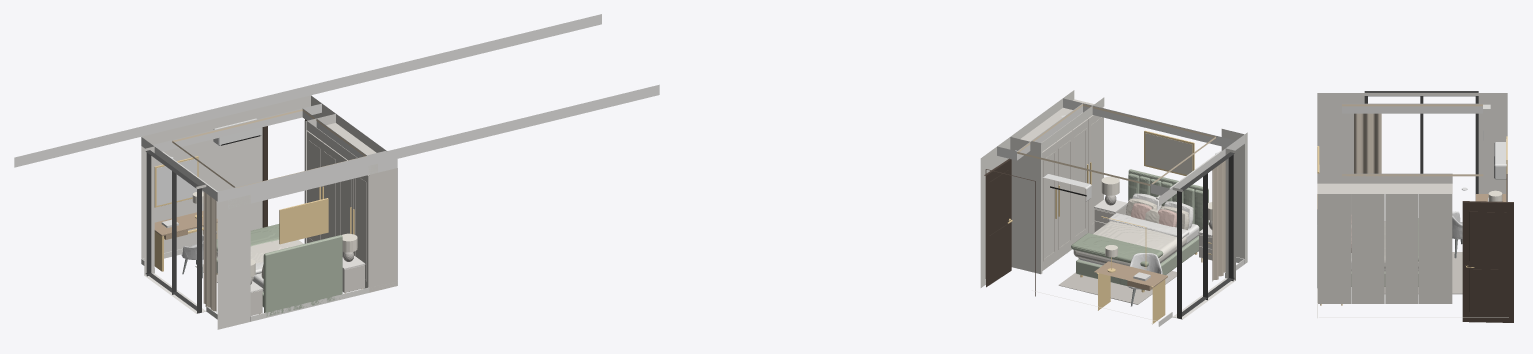
File: ROOM3.glb
The picture shows the model from 3 angles, left to right: view 1: azimuth 30°, elevation 25°; view 2: azimuth 150°, elevation 25°; view 3: azimuth 270°, elevation 25°; orthographic projection. The views are drawn at different scales.
Parts seen in each view (by area): view 1: WEB_ROOM3; view 2: WEB_ROOM3; view 3: WEB_ROOM3.
Boxes of the visible parts, left/top/right/bottom form: WEB_ROOM3: left=14, top=14, right=659, bottom=329; WEB_ROOM3: left=980, top=90, right=1247, bottom=326; WEB_ROOM3: left=1317, top=91, right=1513, bottom=322.
Size of the model in its own units: 12.09 by 2.9 by 3.27.
